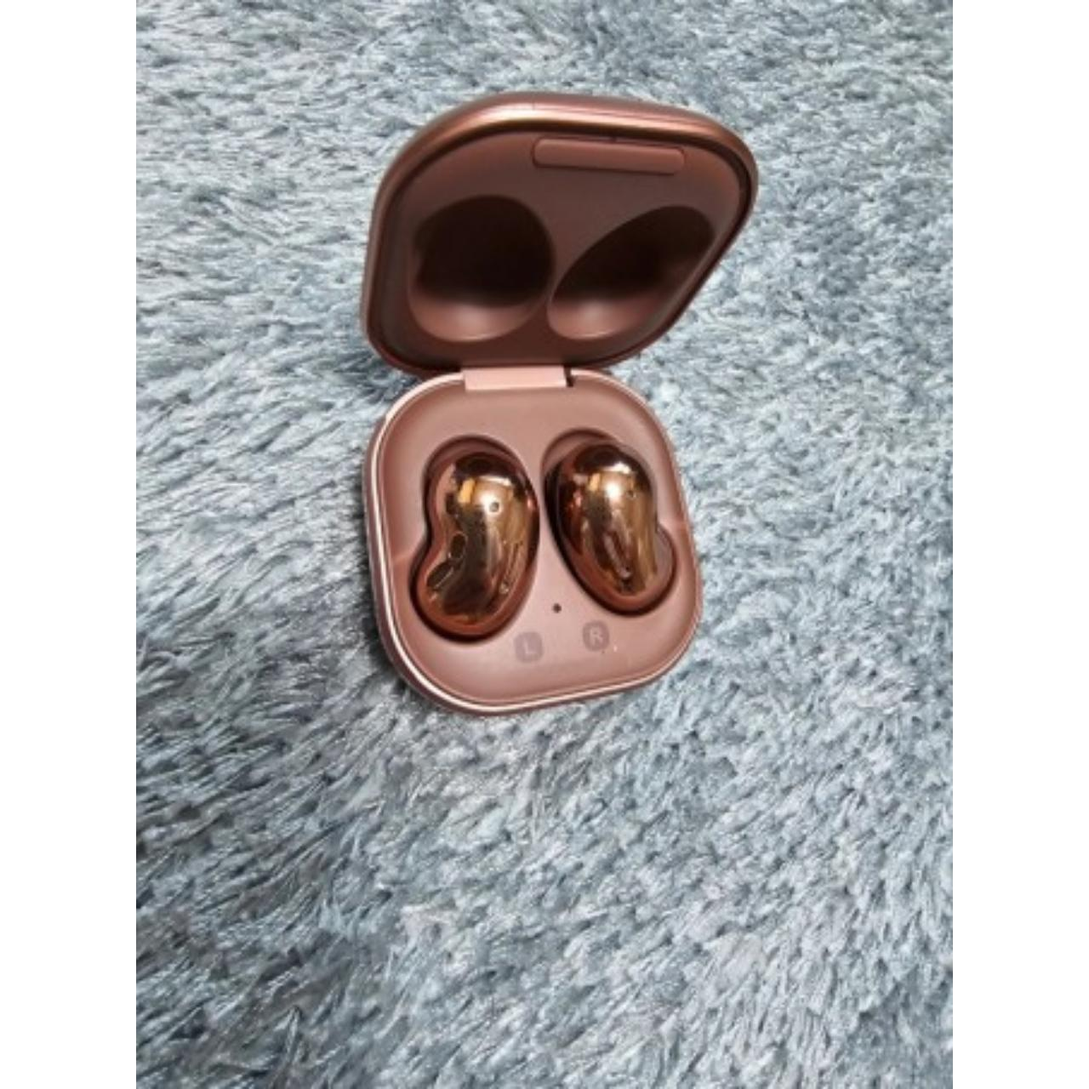Buds: (350, 86, 763, 721)
Buds_Units: (405, 433, 543, 651), (543, 436, 687, 619)
